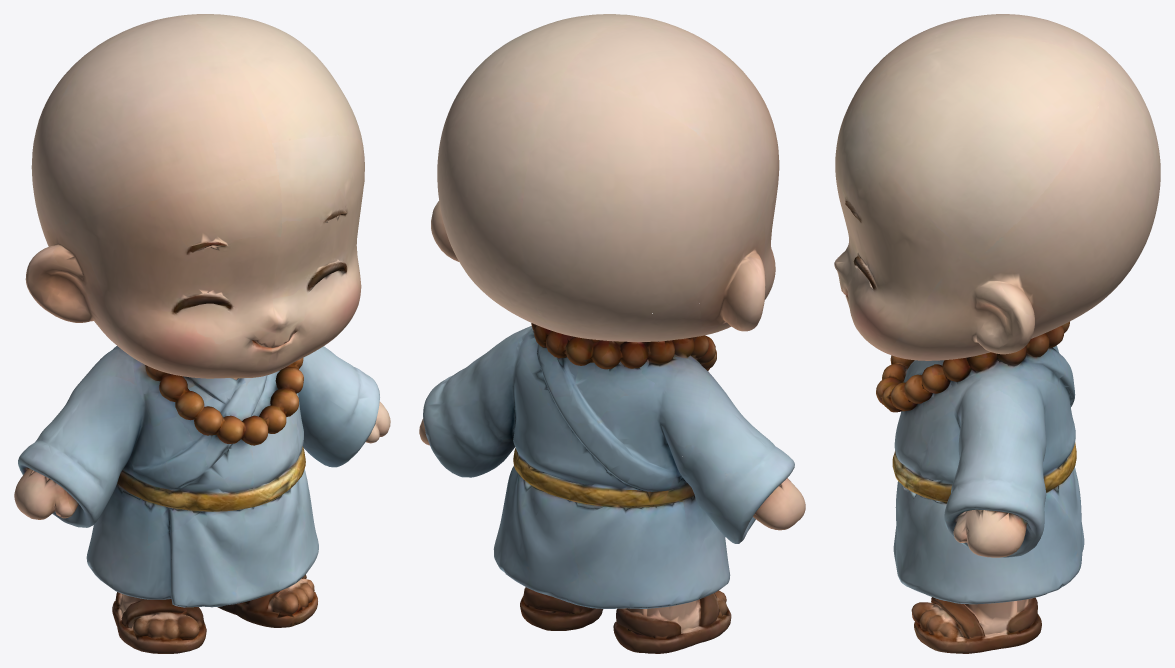
Rendered from monk2.glb.
The picture shows the model from 3 angles, left to right: view 1: azimuth 30°, elevation 25°; view 2: azimuth 150°, elevation 25°; view 3: azimuth 270°, elevation 25°; orthographic projection. The views are drawn at different scales.
Parts seen in each view (by area): view 1: tripo_node_8cd60323-3642-4a6c-9895-dabfcee96d44; view 2: tripo_node_8cd60323-3642-4a6c-9895-dabfcee96d44; view 3: tripo_node_8cd60323-3642-4a6c-9895-dabfcee96d44.
Part boxes in pixels (bbox=[...]): tripo_node_8cd60323-3642-4a6c-9895-dabfcee96d44: bbox=[14, 14, 390, 653]; tripo_node_8cd60323-3642-4a6c-9895-dabfcee96d44: bbox=[419, 14, 805, 653]; tripo_node_8cd60323-3642-4a6c-9895-dabfcee96d44: bbox=[834, 14, 1160, 653].
Size of the model in its own units: 1.29 by 1.96 by 1.
Materials: 1 (1 with a texture image).
